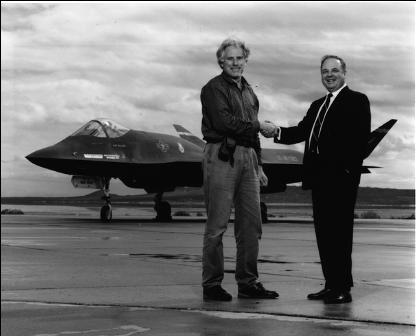US2: (22, 116, 396, 222)
